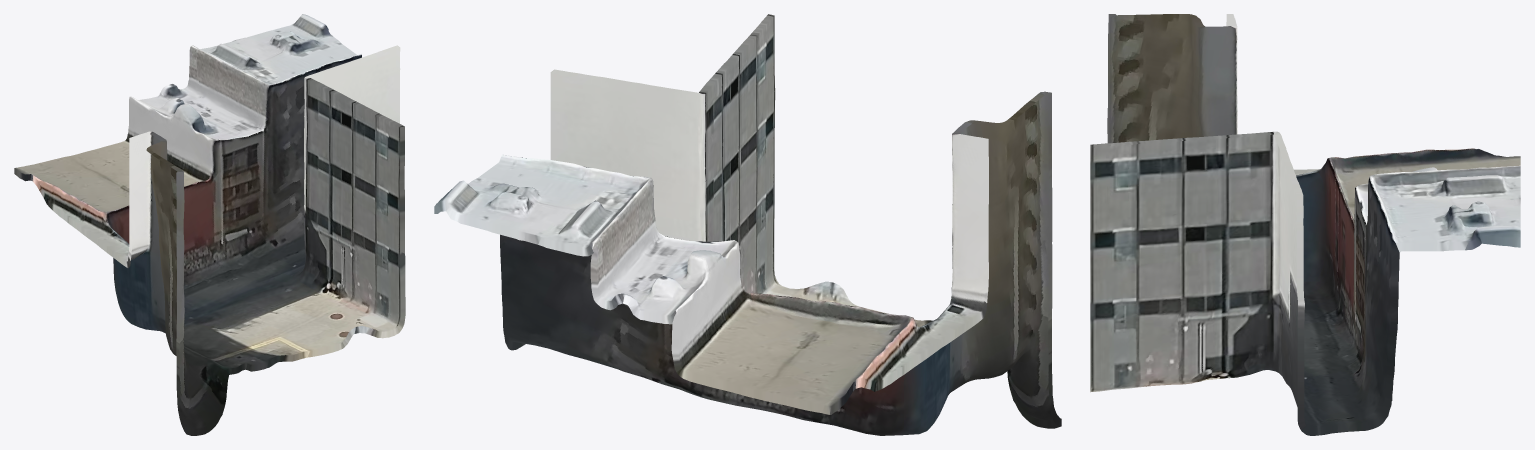
File: z20-167756-405236-h0-yup-uvflip-v3-world.glb
3 renders of one model, left to right at view 1: azimuth 30°, elevation 25°; view 2: azimuth 150°, elevation 25°; view 3: azimuth 270°, elevation 25°, orthographic. The views are drawn at different scales.
Size of the model in its own units: 30.16 by 25.2 by 30.32.
Materials: 1 (1 with a texture image).
